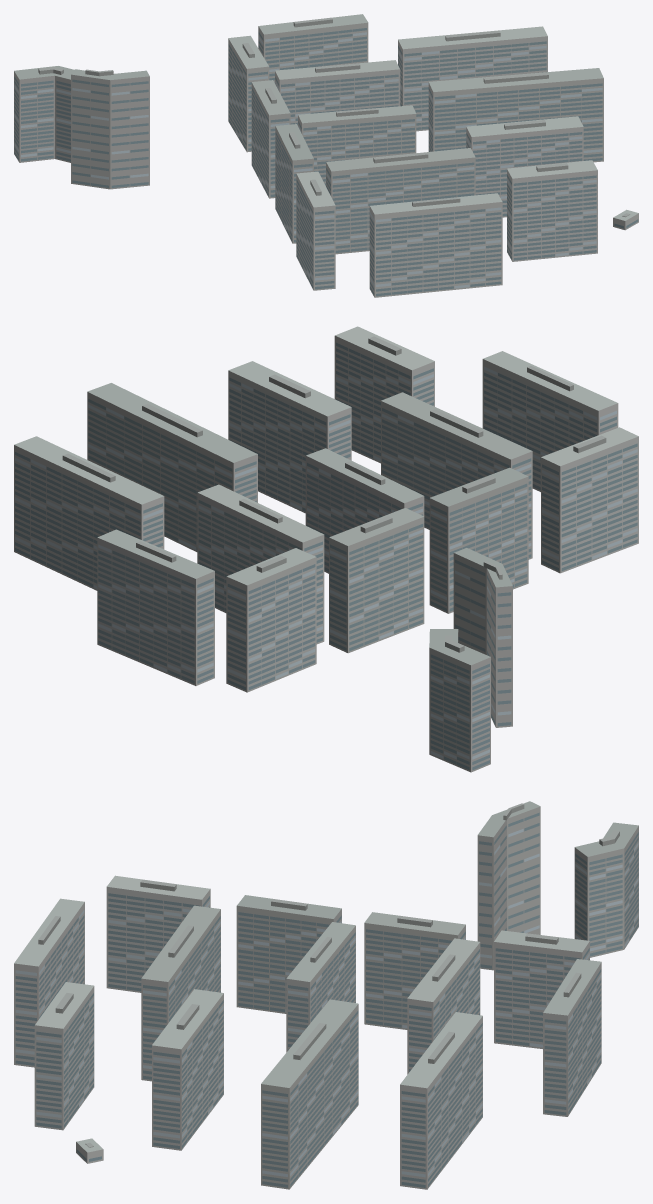
Rendered from apt-a15681110.glb.
3 views of the same model, one above another, from view 1: azimuth 30°, elevation 25°; view 2: azimuth 150°, elevation 25°; view 3: azimuth 270°, elevation 25° (orthographic). The views are drawn at different scales.
Parts seen in each view (by area): view 1: apt-a15681110; view 2: apt-a15681110; view 3: apt-a15681110.
Boxes of the visible parts, box(x1,y1,x2,y2) form: apt-a15681110: box(14, 14, 638, 297); apt-a15681110: box(14, 326, 638, 772); apt-a15681110: box(14, 801, 638, 1189).
Size of the model in its own units: 307 by 74 by 305.
